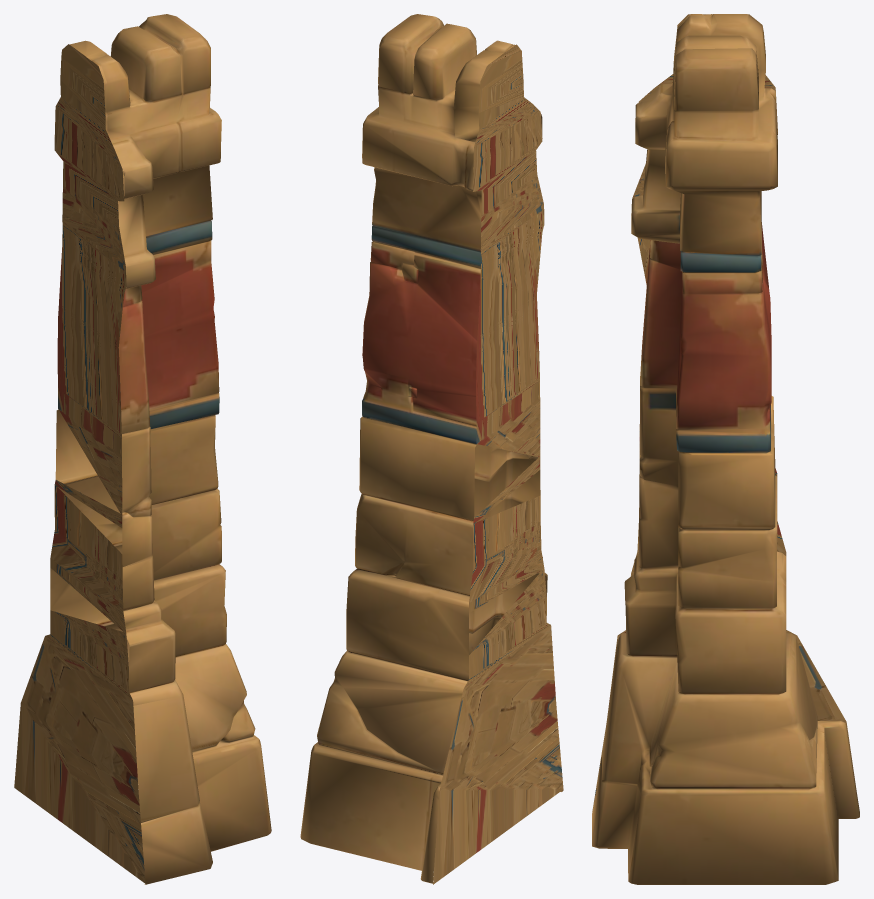
The model's file is SM_Tripo_DesertRampartEndR.glb.
3 views of the same model, side by side, from view 1: azimuth 30°, elevation 25°; view 2: azimuth 150°, elevation 25°; view 3: azimuth 270°, elevation 25° (orthographic). The views are drawn at different scales.
Parts seen in each view (by area): view 1: SM_Tripo_DesertRampartEndR_LOD0; view 2: SM_Tripo_DesertRampartEndR_LOD0; view 3: SM_Tripo_DesertRampartEndR_LOD0.
Part boxes in pixels (x1,y1,x2,y2): SM_Tripo_DesertRampartEndR_LOD0: [14, 14, 271, 884]; SM_Tripo_DesertRampartEndR_LOD0: [300, 14, 563, 884]; SM_Tripo_DesertRampartEndR_LOD0: [592, 14, 859, 884].
Bounding box in the file's own units: 1.74 × 9 × 2.7.
Materials: 1 (1 with a texture image).
